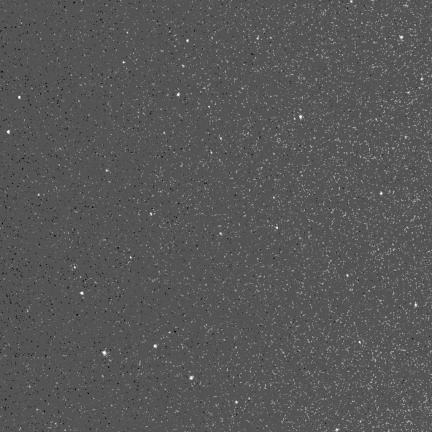blob: (154, 344, 158, 349), (103, 351, 107, 356), (177, 92, 181, 97), (80, 292, 84, 296), (190, 376, 194, 380), (235, 401, 239, 405), (400, 36, 403, 40), (7, 130, 10, 134), (123, 61, 126, 65), (106, 169, 109, 173), (18, 96, 21, 100), (380, 192, 383, 196), (276, 226, 279, 230), (421, 77, 424, 81), (220, 232, 223, 236), (359, 341, 362, 344), (150, 213, 153, 216), (300, 115, 302, 119), (347, 274, 349, 278), (187, 39, 189, 43)
